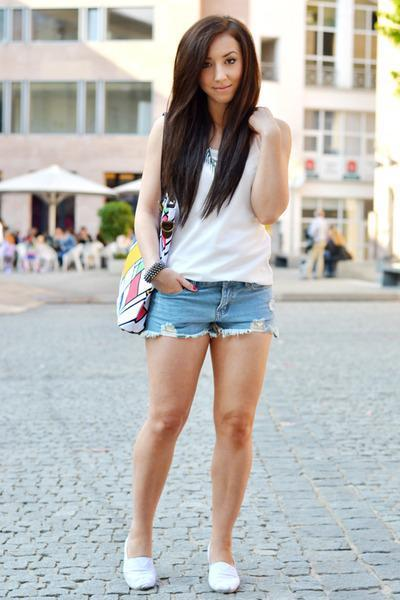bag: (117, 261, 157, 351)
shirt: (156, 134, 275, 284)
shoe: (123, 554, 239, 589)
shorts: (148, 279, 276, 347)
